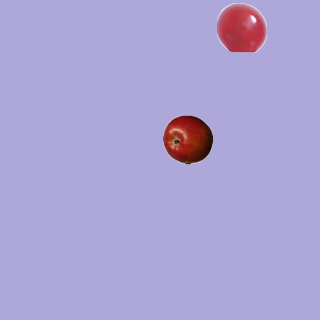Apple Braeburn: (162, 114, 212, 164)
Redcurrant: (216, 2, 266, 52)
